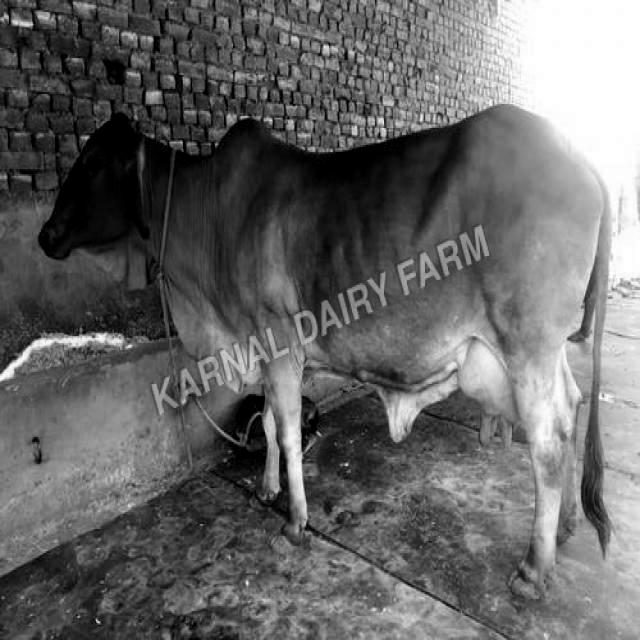COW: (40, 105, 610, 597)
